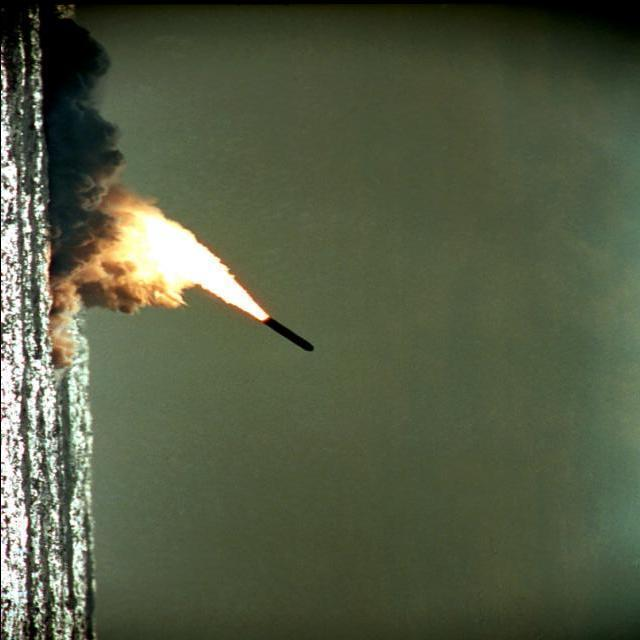missile: (263, 316, 317, 359)
